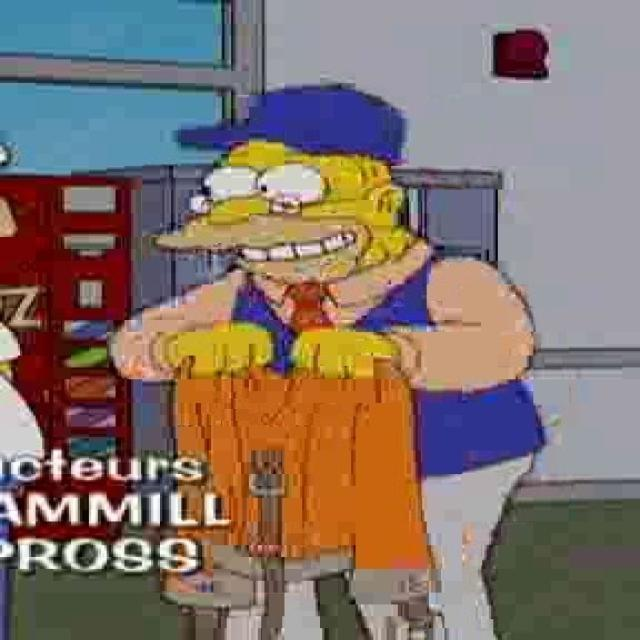Abraham Grampa Simpson: (149, 137, 429, 290)
